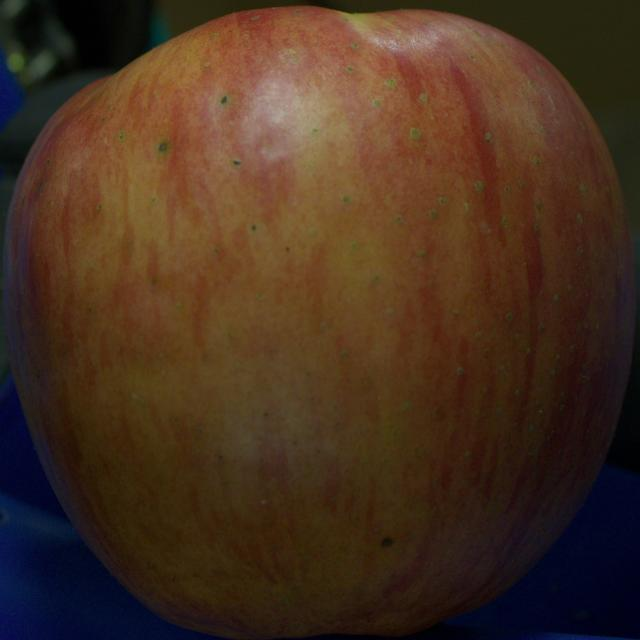apple: (4, 7, 635, 639)
pest: (158, 142, 168, 151), (382, 538, 392, 546)
